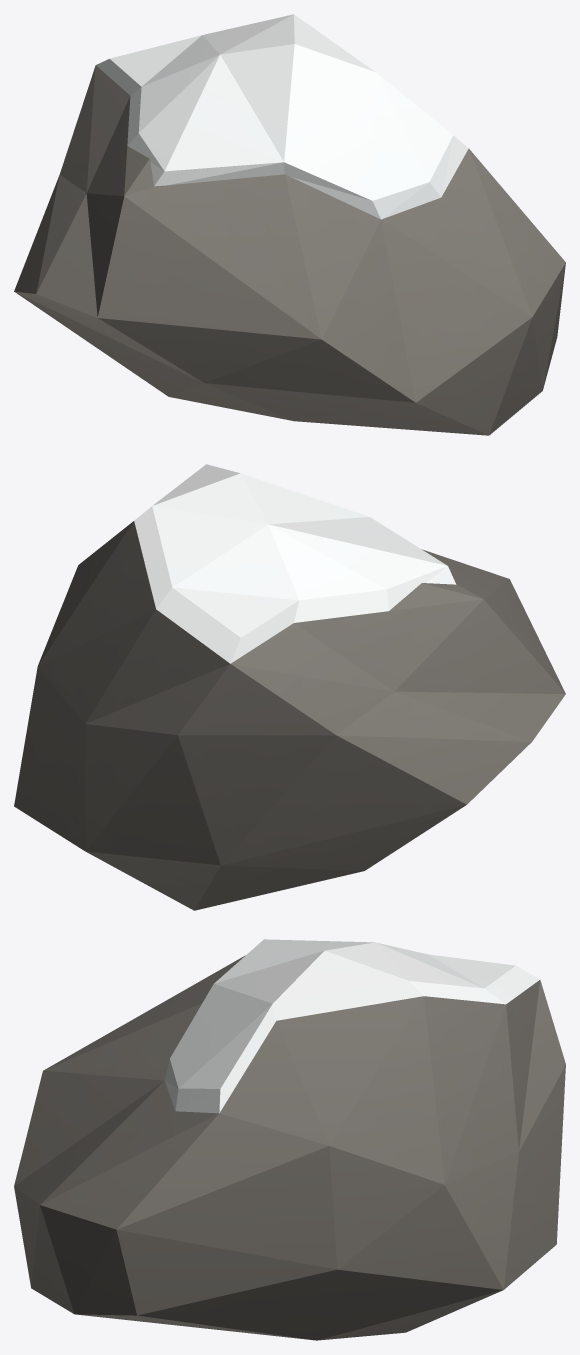
File: HX-shitou2.FBX
3 renders of one model, top to bottom at view 1: azimuth 30°, elevation 25°; view 2: azimuth 150°, elevation 25°; view 3: azimuth 270°, elevation 25°, orthographic. The views are drawn at different scales.
Visible parts, largest first — view 1: shitou2, xue2; view 2: shitou2, xue2; view 3: shitou2, xue2.
Boxes of the visible parts, x1,y1,x2,y2 form: shitou2: (14, 65, 565, 435); xue2: (96, 14, 468, 219); shitou2: (14, 521, 565, 910); xue2: (134, 464, 456, 663); shitou2: (14, 955, 565, 1340); xue2: (164, 939, 539, 1113).
Size of the model in its own units: 579 by 448 by 617.
